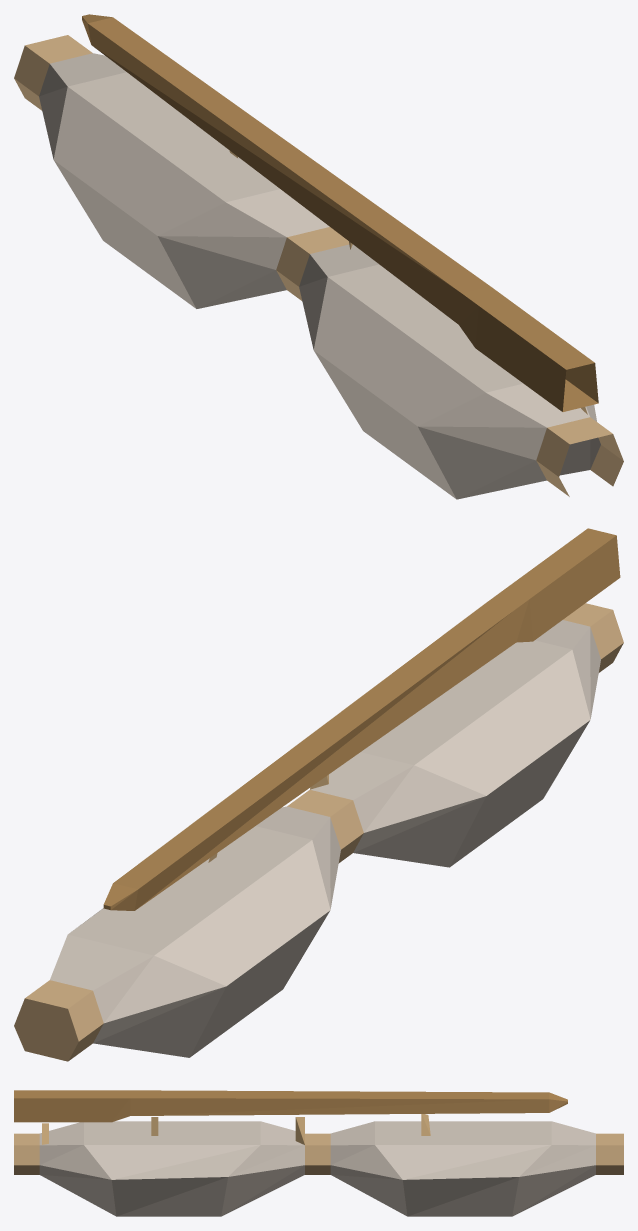
The model's file is obj_hoisted_sail_4_0.obj.
3 renders of one model, top to bottom at view 1: azimuth 30°, elevation 25°; view 2: azimuth 150°, elevation 25°; view 3: azimuth 270°, elevation 25°, orthographic. The views are drawn at different scales.
Bounding box in the file's own units: 0.375 × 0.3984 × 2.05.
